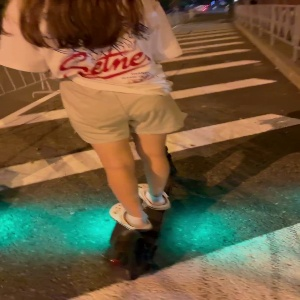human on a scooter: (1, 1, 188, 283)
